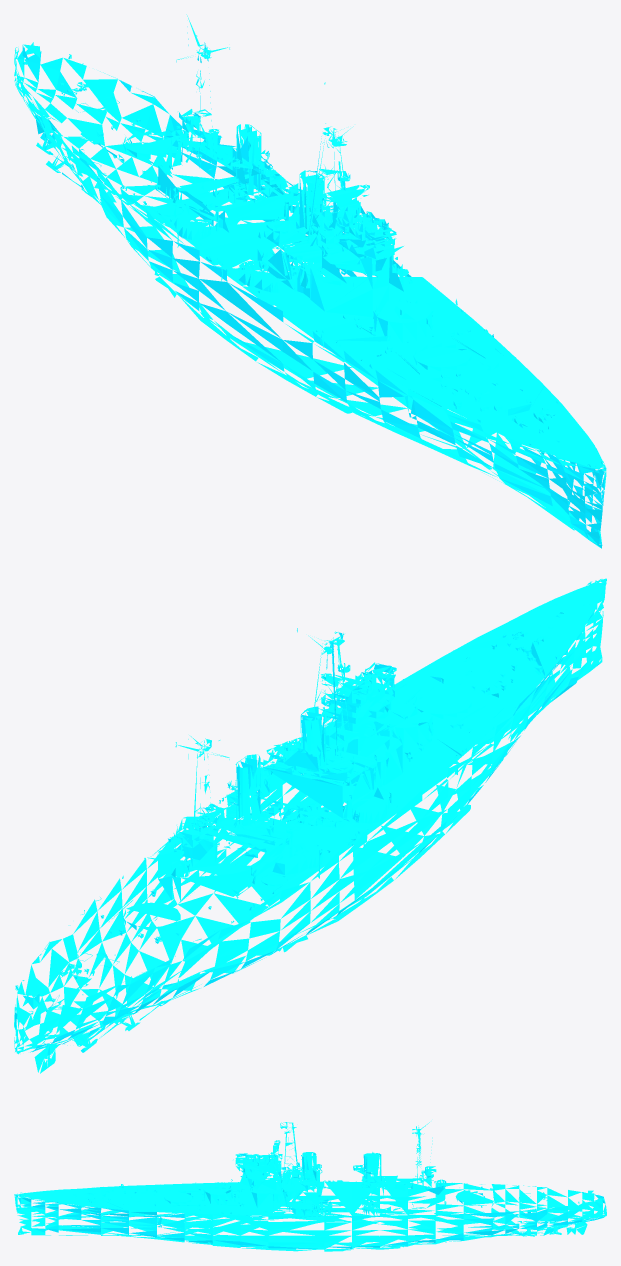
Rendered from Yukon.glb.
The picture shows the model from 3 angles, top to bottom: view 1: azimuth 30°, elevation 25°; view 2: azimuth 150°, elevation 25°; view 3: azimuth 270°, elevation 25°; orthographic projection. The views are drawn at different scales.
Bounding box in the file's own units: 2.17 × 3.76 × 15.12.
